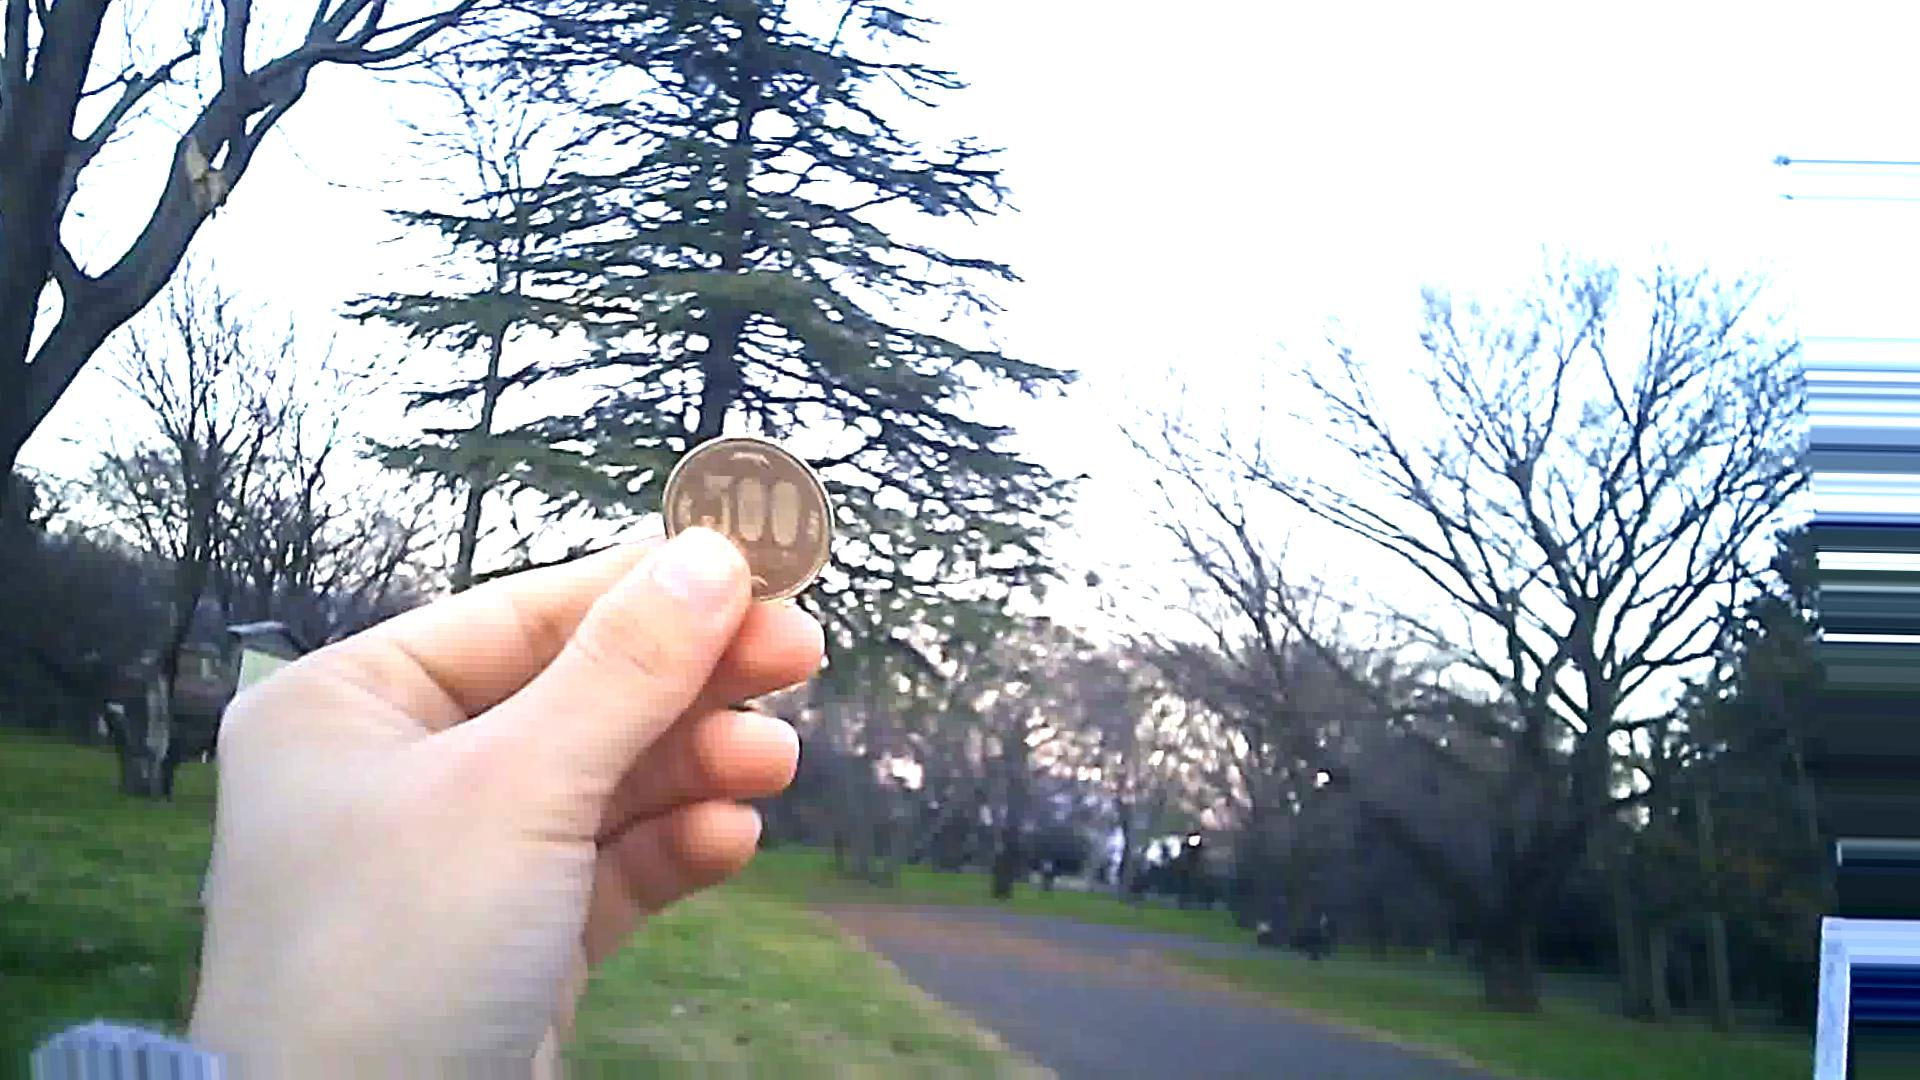500 Yen: (655, 425, 832, 604)
